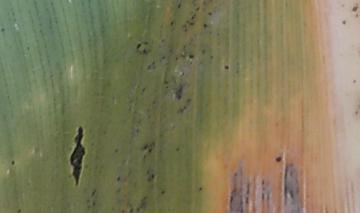tarspot: (68, 124, 86, 187), (174, 84, 183, 101), (178, 104, 187, 114), (180, 22, 188, 33), (141, 48, 152, 56), (245, 182, 251, 196), (274, 155, 282, 164), (350, 5, 359, 13), (115, 174, 123, 183), (175, 1, 183, 10), (222, 63, 230, 71), (141, 143, 149, 151), (135, 42, 143, 50), (273, 120, 281, 128), (184, 97, 193, 104), (90, 188, 96, 198), (134, 126, 140, 136), (229, 194, 235, 204), (244, 195, 250, 205), (340, 18, 347, 26), (187, 53, 195, 60), (201, 22, 209, 29), (206, 10, 213, 18), (112, 147, 120, 154), (188, 20, 196, 27), (150, 98, 157, 106), (169, 19, 175, 28), (190, 13, 196, 22), (141, 39, 150, 45), (200, 47, 206, 56), (159, 188, 166, 195), (127, 206, 134, 213), (24, 45, 31, 52), (232, 170, 239, 177), (353, 109, 360, 116), (197, 185, 203, 193), (91, 199, 97, 207), (145, 63, 151, 71), (182, 42, 187, 51), (10, 159, 16, 166), (351, 78, 357, 85), (1, 27, 7, 34), (147, 146, 153, 153), (174, 146, 181, 152), (194, 5, 200, 12), (162, 79, 169, 85), (339, 2, 345, 9), (354, 12, 359, 20), (162, 85, 170, 90), (260, 177, 265, 185), (173, 55, 179, 61), (160, 55, 166, 61), (180, 71, 186, 77), (159, 38, 165, 44), (15, 208, 22, 213), (150, 173, 155, 180), (141, 86, 146, 93), (120, 208, 127, 213), (208, 54, 213, 60), (215, 31, 220, 37)
